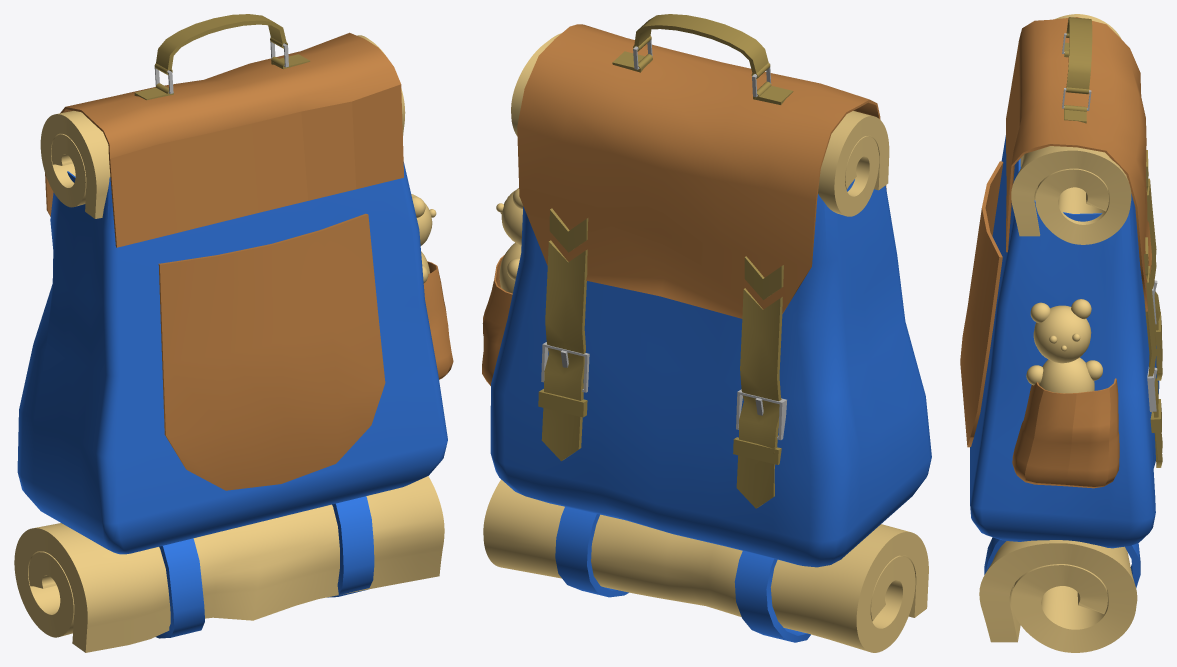
The model's file is Bag_Boy.fbx.
3 views of the same model, side by side, from view 1: azimuth 30°, elevation 25°; view 2: azimuth 150°, elevation 25°; view 3: azimuth 270°, elevation 25° (orthographic). The views are drawn at different scales.
Parts seen in each view (by area): view 1: Bag; view 2: Bag; view 3: Bag.
Boxes of the visible parts, bbox=[...] form: Bag: bbox=[14, 14, 453, 652]; Bag: bbox=[482, 14, 931, 652]; Bag: bbox=[960, 14, 1162, 652].
Size of the model in its own units: 46.59 by 66.16 by 22.36.
1 material, 1 textured.
